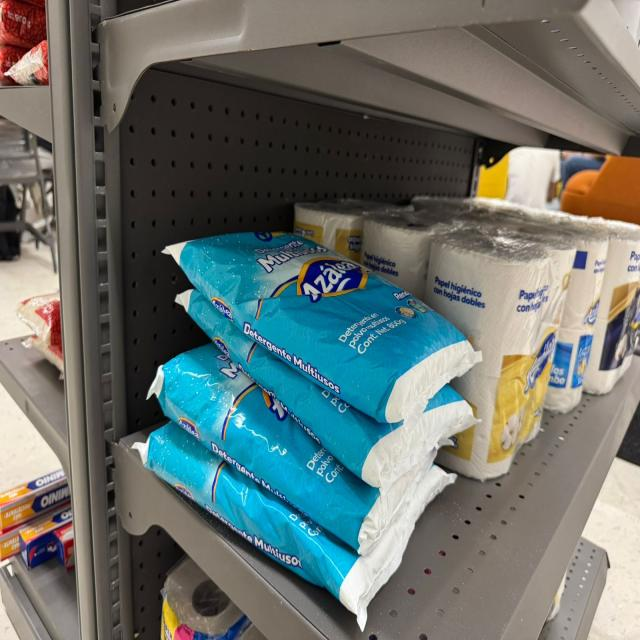DETERGENTE AZALEA MULTIUSOS 800G: (133, 420, 456, 631), (148, 340, 443, 553), (162, 229, 484, 424), (175, 287, 477, 487)
Higienico Cottonelle Elegance XL 252h: (561, 211, 640, 395)
PAPEL HIGIENICO AZALEA 4 ROLLOS 350 HOJAS: (422, 226, 575, 483), (491, 211, 609, 416), (363, 206, 459, 297), (292, 198, 415, 259)
